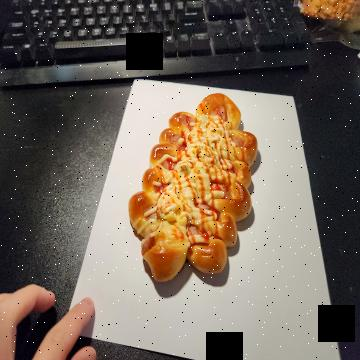pizza_bread: (127, 92, 256, 283)
